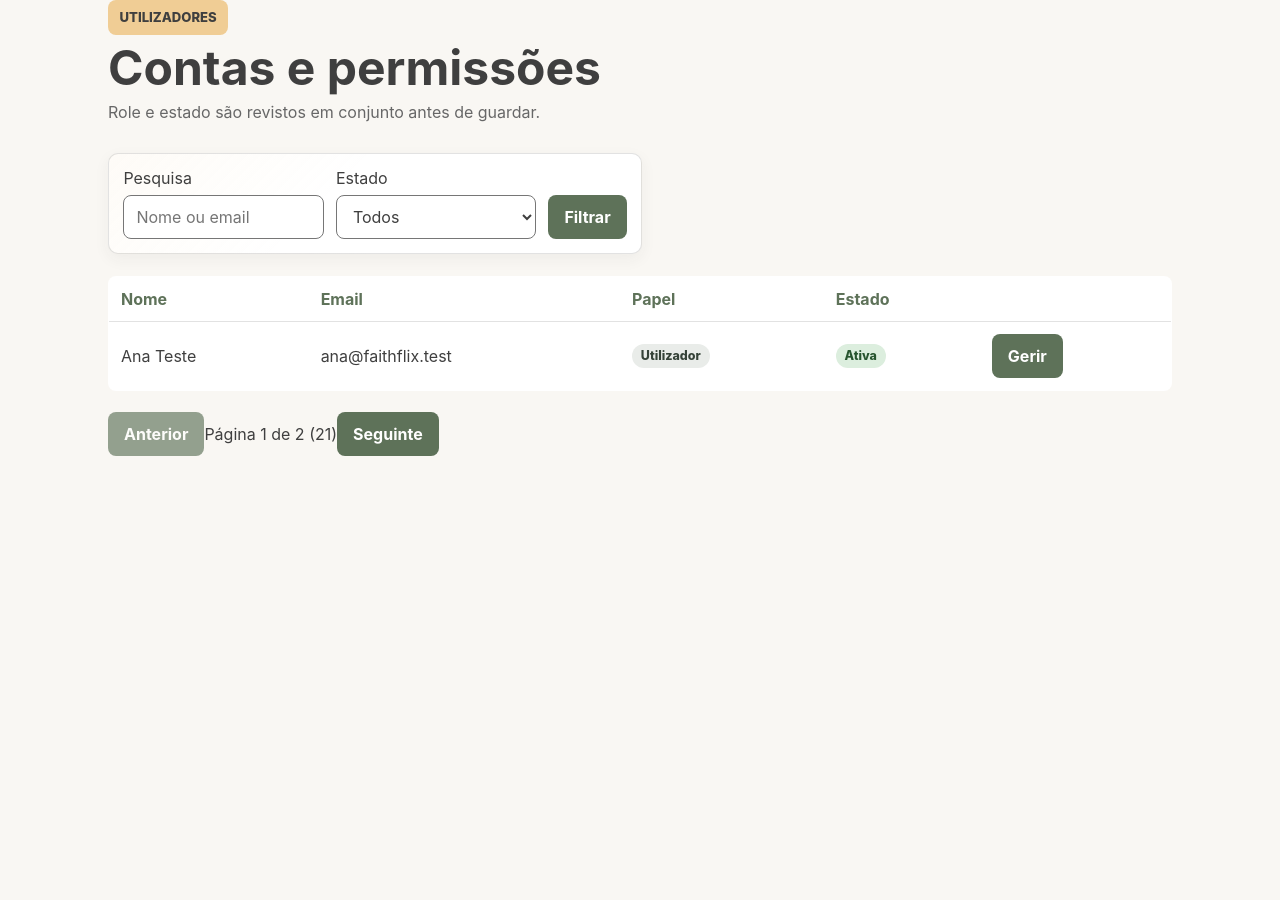
Test: AdminUsersPage › não altera a conta quando a confirmação é recusada
The image size is (1280, 900).
Expected: the text "Ana Teste" is shown, [108,321,309,390]
Click the button "Gerir": (1027, 356) [992,334,1063,378]
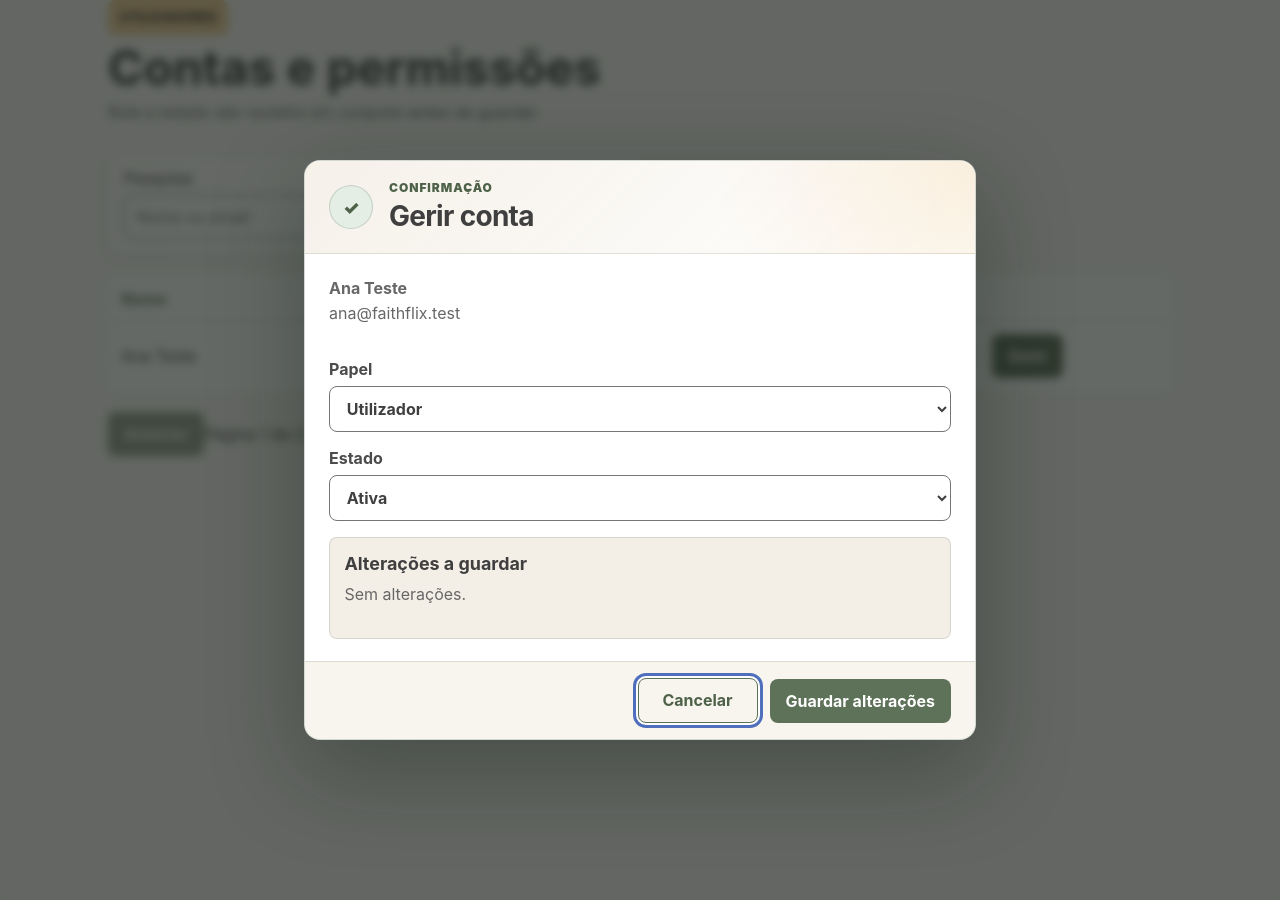
Select "Bloqueada" in the dropdown labelled "Estado": (640, 498) [329,475,951,521]
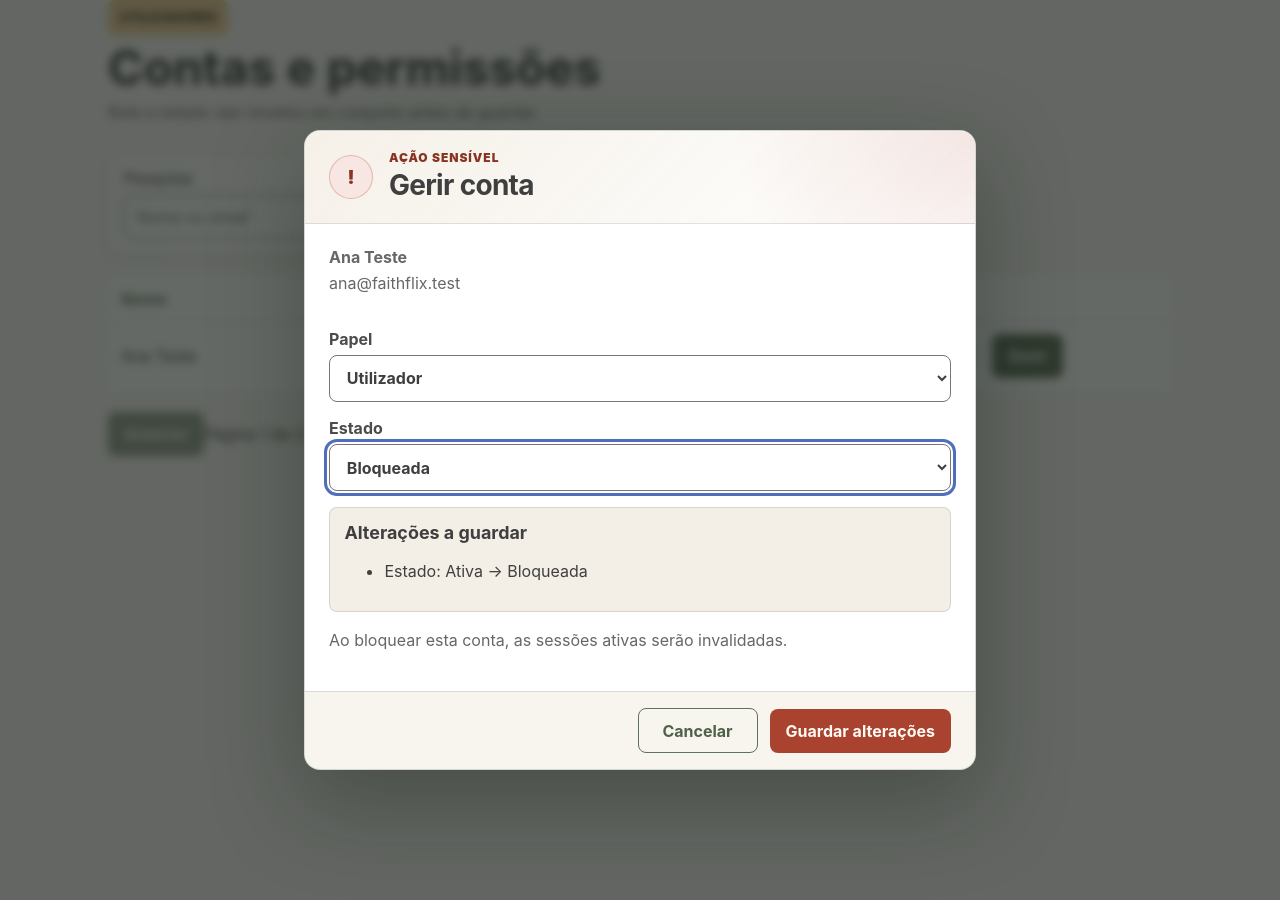
Click the button "Cancelar": (698, 731) [638,708,758,753]
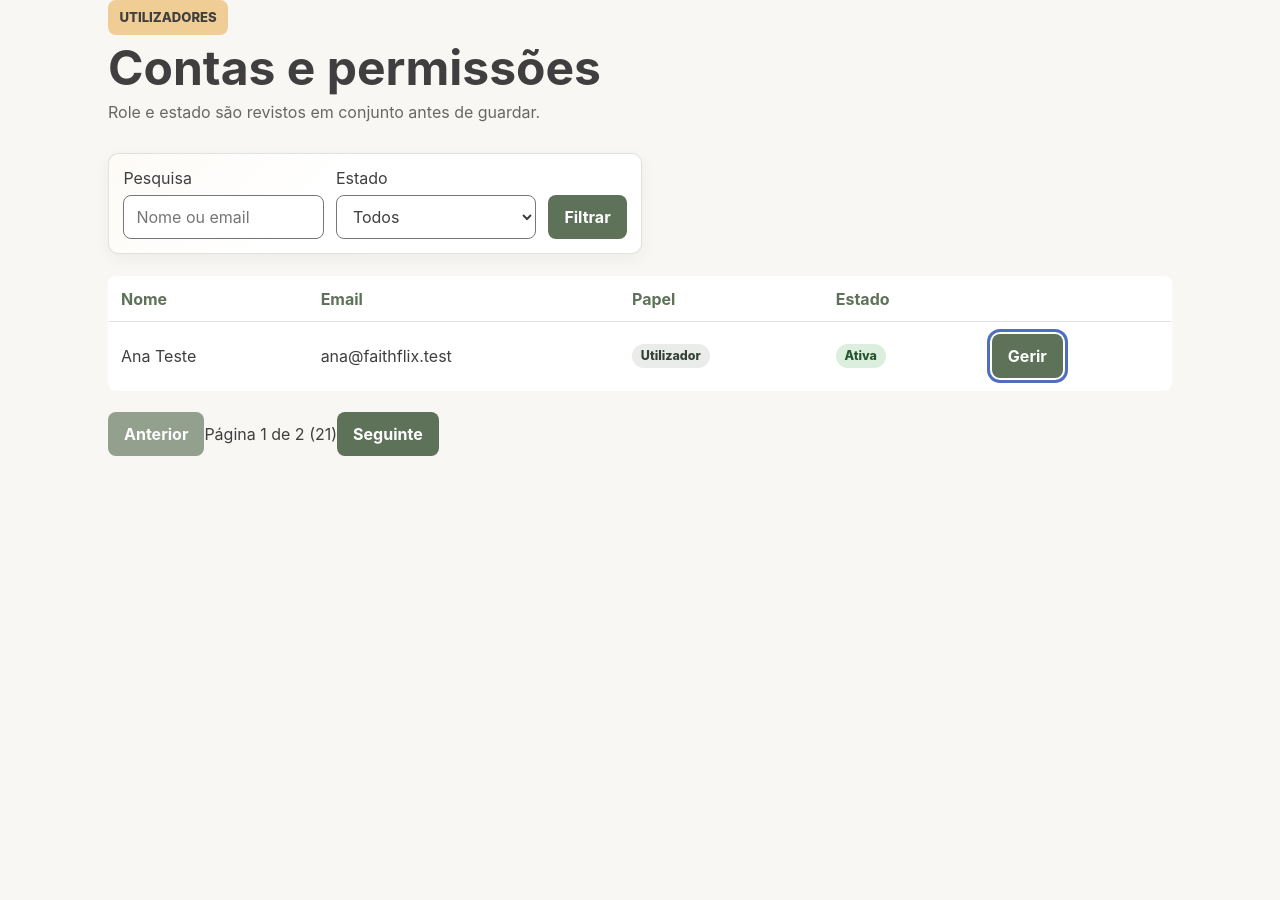
Expected: the dialog is gone
